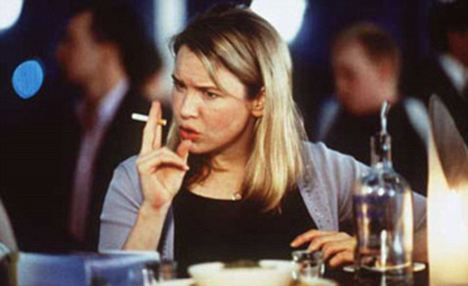cigarette: (125, 107, 170, 128)
